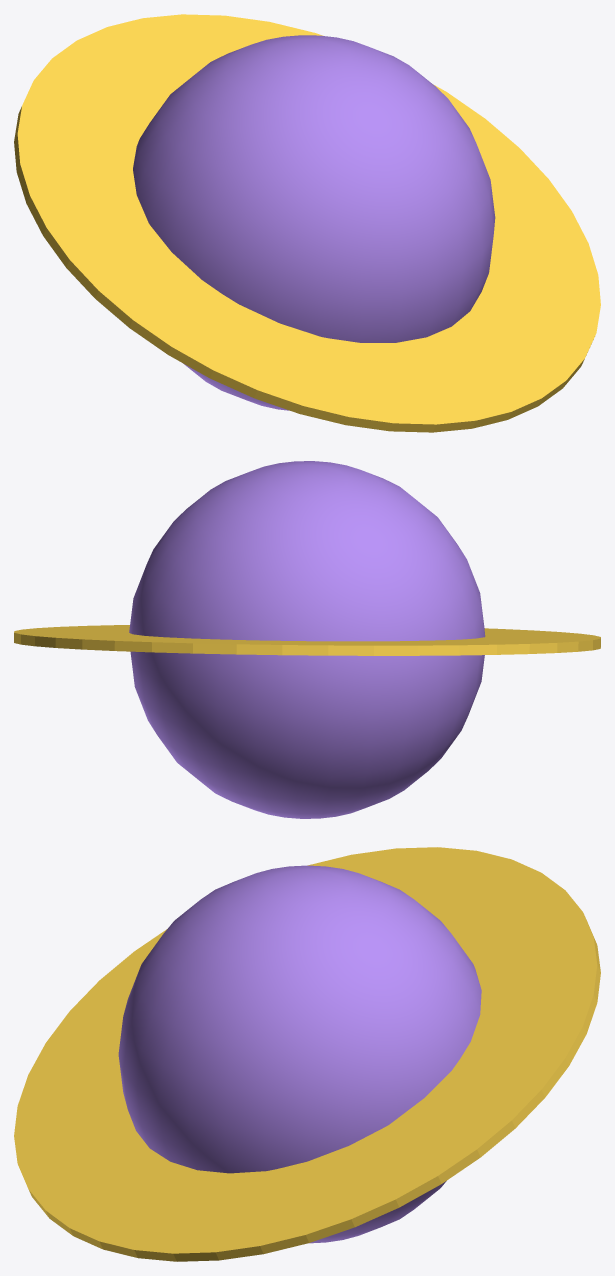
Rendered from Prop_Space_Planet.fbx.
The picture shows the model from 3 angles, top to bottom: view 1: azimuth 30°, elevation 25°; view 2: azimuth 150°, elevation 25°; view 3: azimuth 270°, elevation 25°; orthographic projection. The views are drawn at different scales.
Visible parts, largest first — view 1: Prop_Space_Planet; view 2: Prop_Space_Planet; view 3: Prop_Space_Planet.
Boxes of the visible parts, x1=… form: Prop_Space_Planet: x1=14, y1=14, x2=600, y2=432; Prop_Space_Planet: x1=14, y1=461, x2=600, y2=818; Prop_Space_Planet: x1=14, y1=847, x2=600, y2=1261.
Size of the model in its own units: 2.26 by 1.4 by 2.17.
